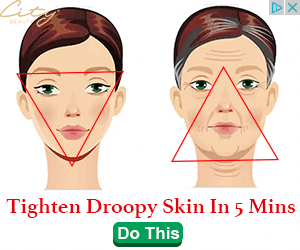fake_button: (107, 220, 187, 248)
